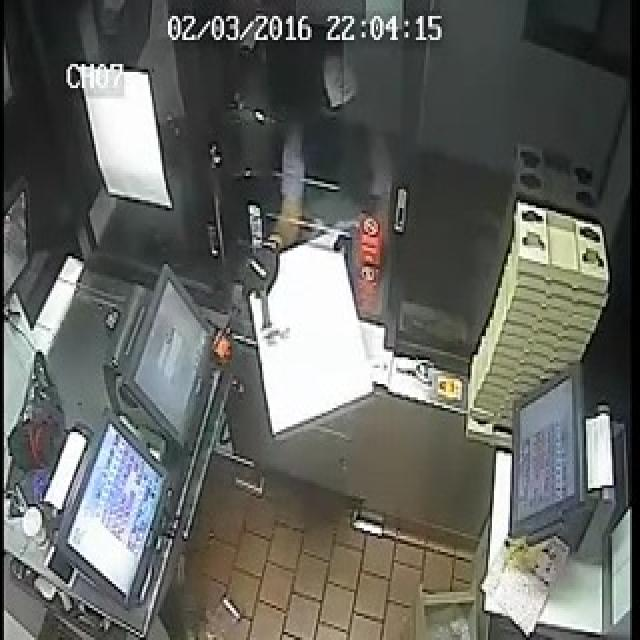thief: (309, 73, 429, 244)
